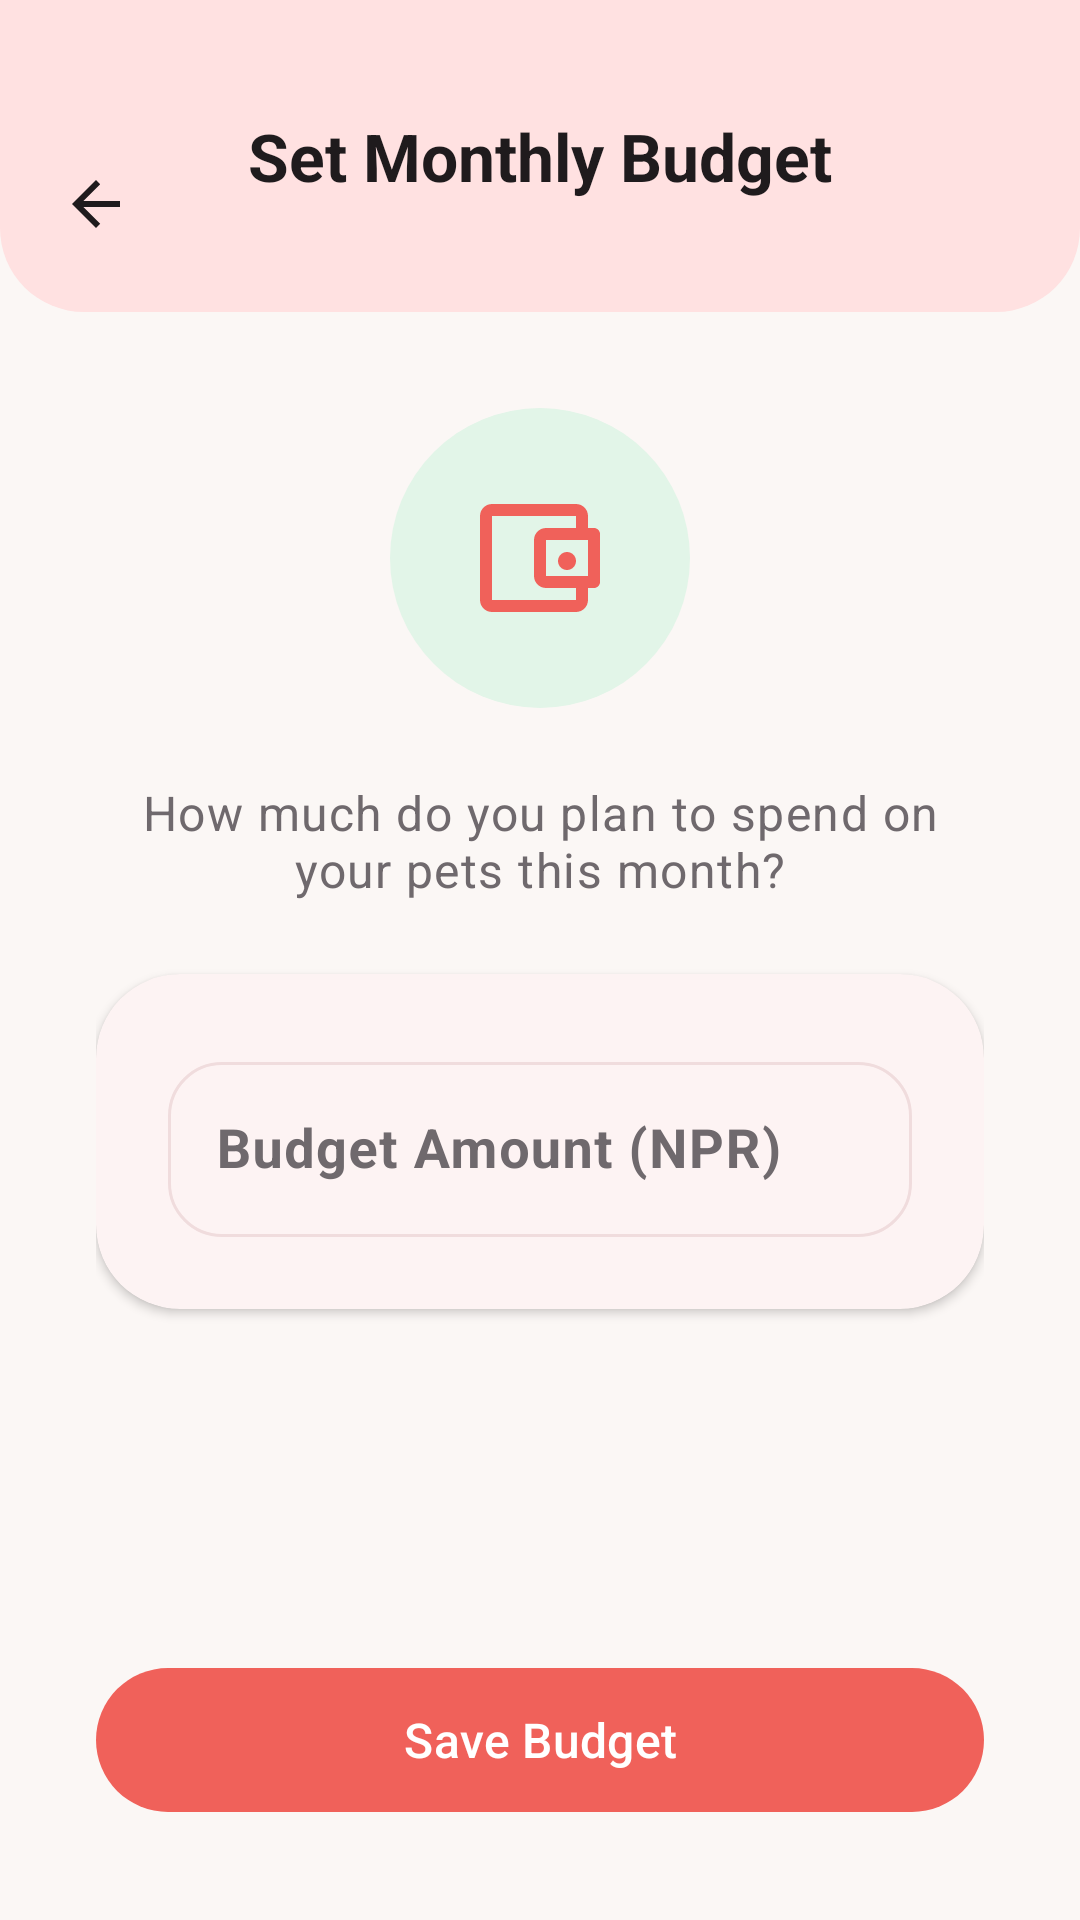

Icon click points for this 1080 × 1920 phone screenshot, format (x,y):
Go back: (96,204)
wallet: (540,558)
